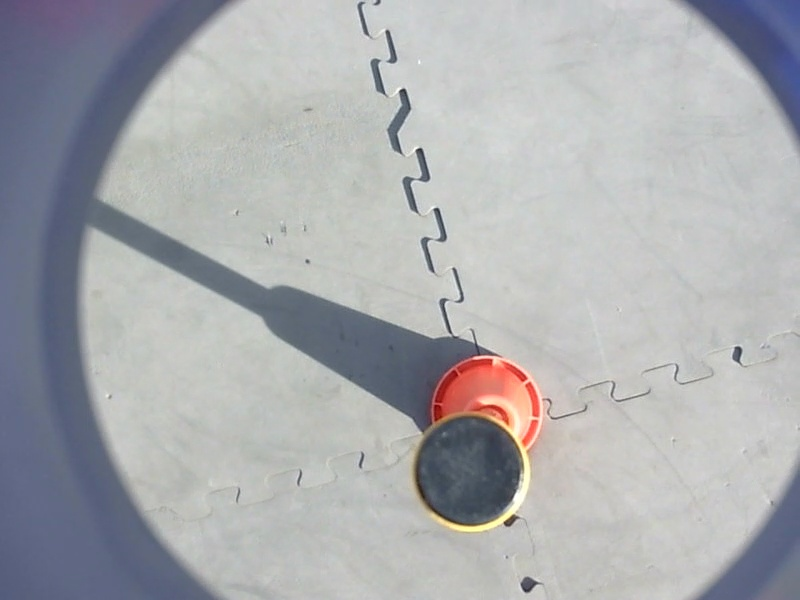tip: (407, 407, 538, 539)
